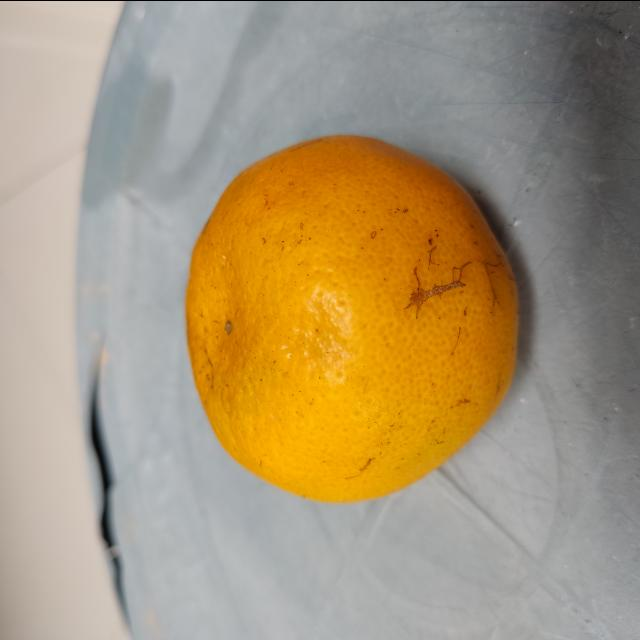orange: (177, 128, 524, 508)
